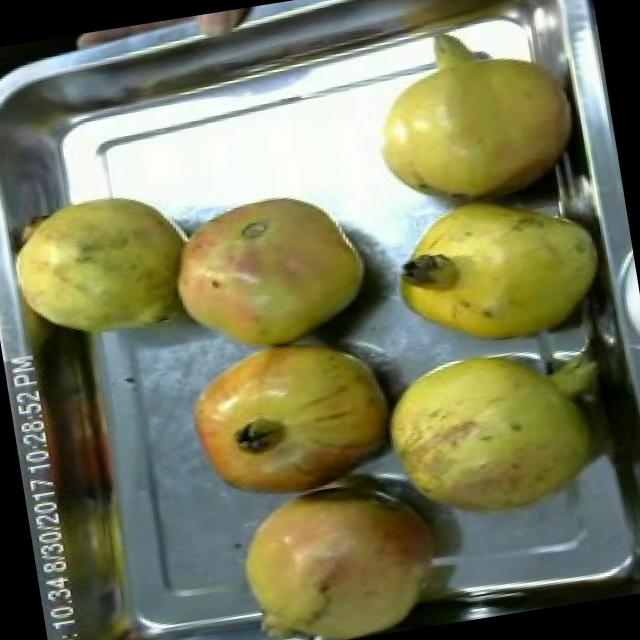fruit: (353, 319, 627, 551), (338, 10, 594, 230), (162, 316, 414, 531), (143, 165, 396, 376), (209, 451, 485, 640), (362, 170, 618, 370), (0, 169, 211, 357)
